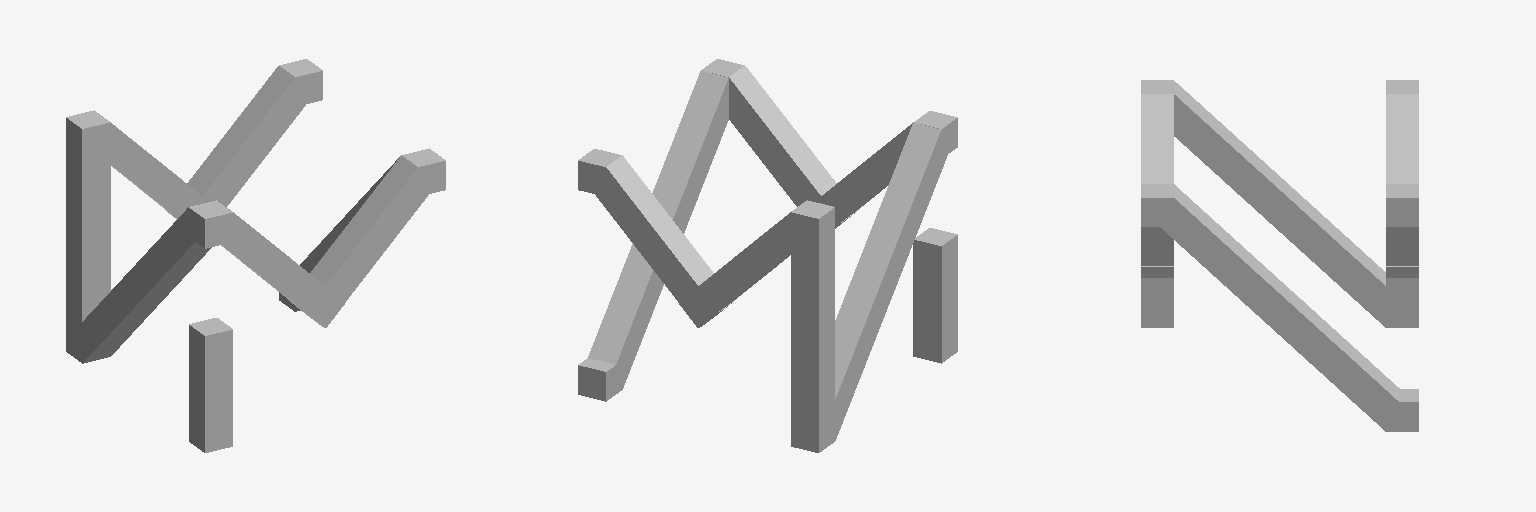
3 renders of one model, left to right at view 1: azimuth 30°, elevation 25°; view 2: azimuth 150°, elevation 25°; view 3: azimuth 270°, elevation 25°, orthographic.
Visible parts, largest first — view 1: 4막대.002_Cube.017; view 2: 4막대.002_Cube.017; view 3: 4막대.002_Cube.017.
Boxes of the visible parts, x1,y1,x2,y2 form: 4막대.002_Cube.017: [66, 59, 445, 452]; 4막대.002_Cube.017: [578, 59, 957, 452]; 4막대.002_Cube.017: [1141, 80, 1418, 431].
Size of the model in its own units: 3.4 by 3.16 by 3.4.